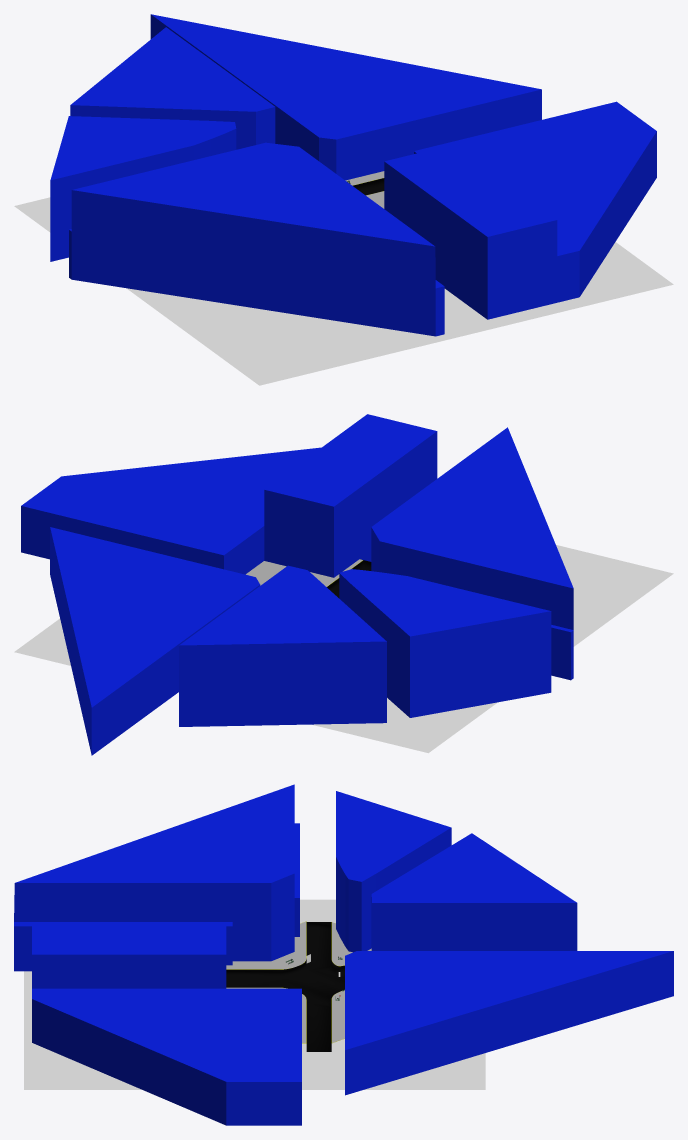
Rendered from city_1.glb.
3 renders of one model, top to bottom at view 1: azimuth 30°, elevation 25°; view 2: azimuth 150°, elevation 25°; view 3: azimuth 270°, elevation 25°, orthographic. The views are drawn at different scales.
Parts seen in each view (by area): view 1: Cube.004, Cube.003, Cube.002, Plane, Cube.001, Cube.005; view 2: Cube.003, Cube.001, Cube.002, Cube.004, Cube.005, Plane, Plane.001; view 3: Cube.003, Cube.002, Cube.004, Cube.001, Cube.005, Plane, Plane.003, Plane.001.
Part boxes in pixels (x1=…): Cube.004: x1=69, y1=142, x2=444, y2=336; Cube.003: x1=384, y1=101, x2=656, y2=319; Cube.002: x1=150, y1=14, x2=541, y2=180; Plane: x1=14, y1=197, x2=673, y2=385; Cube.001: x1=70, y1=27, x2=275, y2=149; Cube.005: x1=50, y1=116, x2=236, y2=261; Cube.003: x1=21, y1=414, x2=437, y2=577; Cube.001: x1=179, y1=565, x2=386, y2=726; Cube.002: x1=50, y1=527, x2=260, y2=755; Cube.004: x1=371, y1=427, x2=573, y2=680; Cube.005: x1=339, y1=569, x2=551, y2=717; Plane: x1=14, y1=545, x2=673, y2=753; Plane.001: x1=246, y1=559, x2=362, y2=586; Cube.003: x1=32, y1=922, x2=301, y2=1125; Cube.002: x1=345, y1=951, x2=673, y2=1095; Cube.004: x1=14, y1=784, x2=299, y2=971; Cube.001: x1=371, y1=833, x2=577, y2=950; Cube.005: x1=336, y1=791, x2=451, y2=952; Plane: x1=24, y1=899, x2=485, y2=1089; Plane.003: x1=226, y1=922, x2=344, y2=1051; Plane.001: x1=226, y1=921, x2=371, y2=1043.
Bounding box in the file's own units: 426 × 75.01 × 472.
12 materials, 1 textured.
